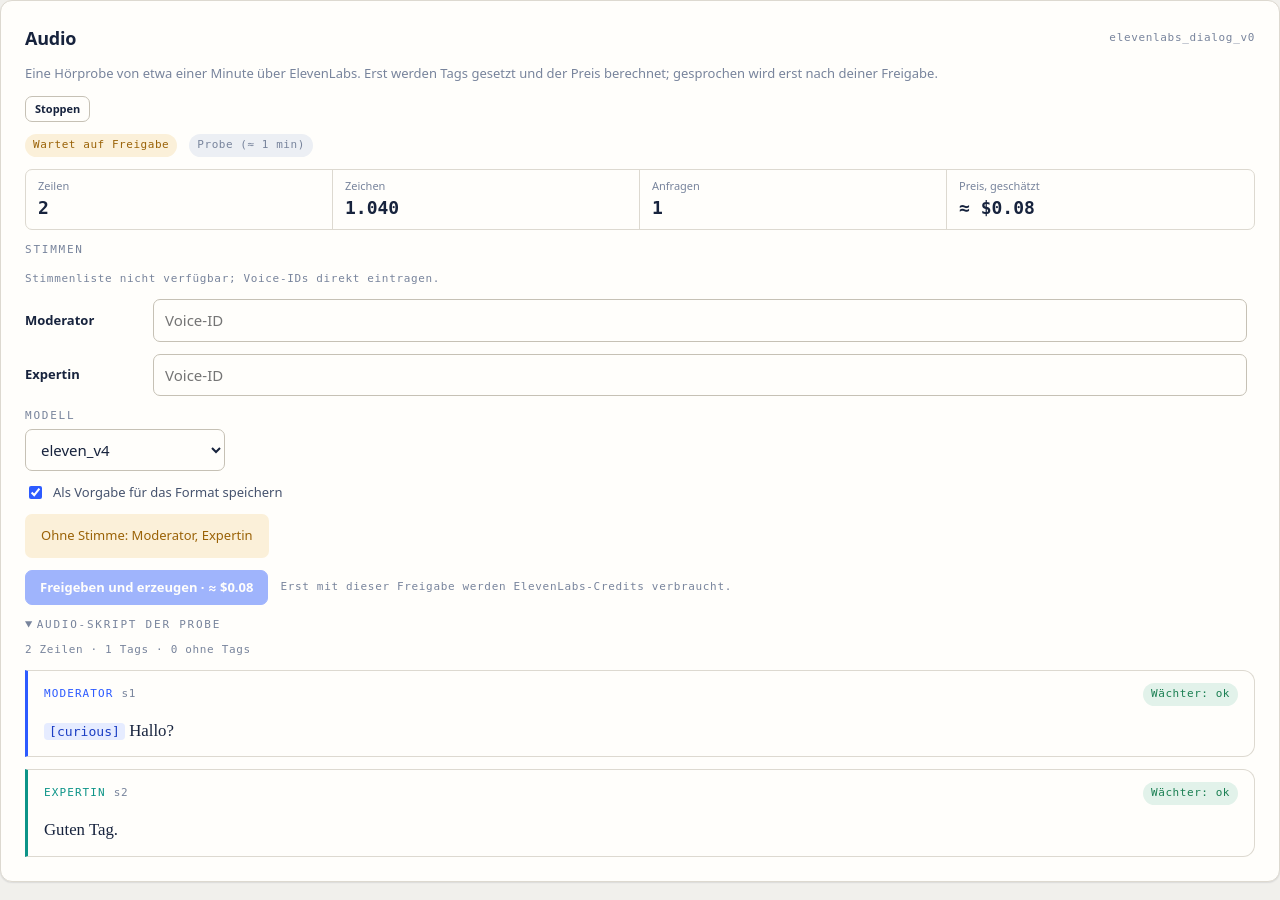
Test: AudioPanel › asks in the page before stopping a take that is waiting for approval
The width and height of the screenshot is (1280, 900).
Click the button "Stoppen". click: (58, 109)
box: [25,96,90,122]
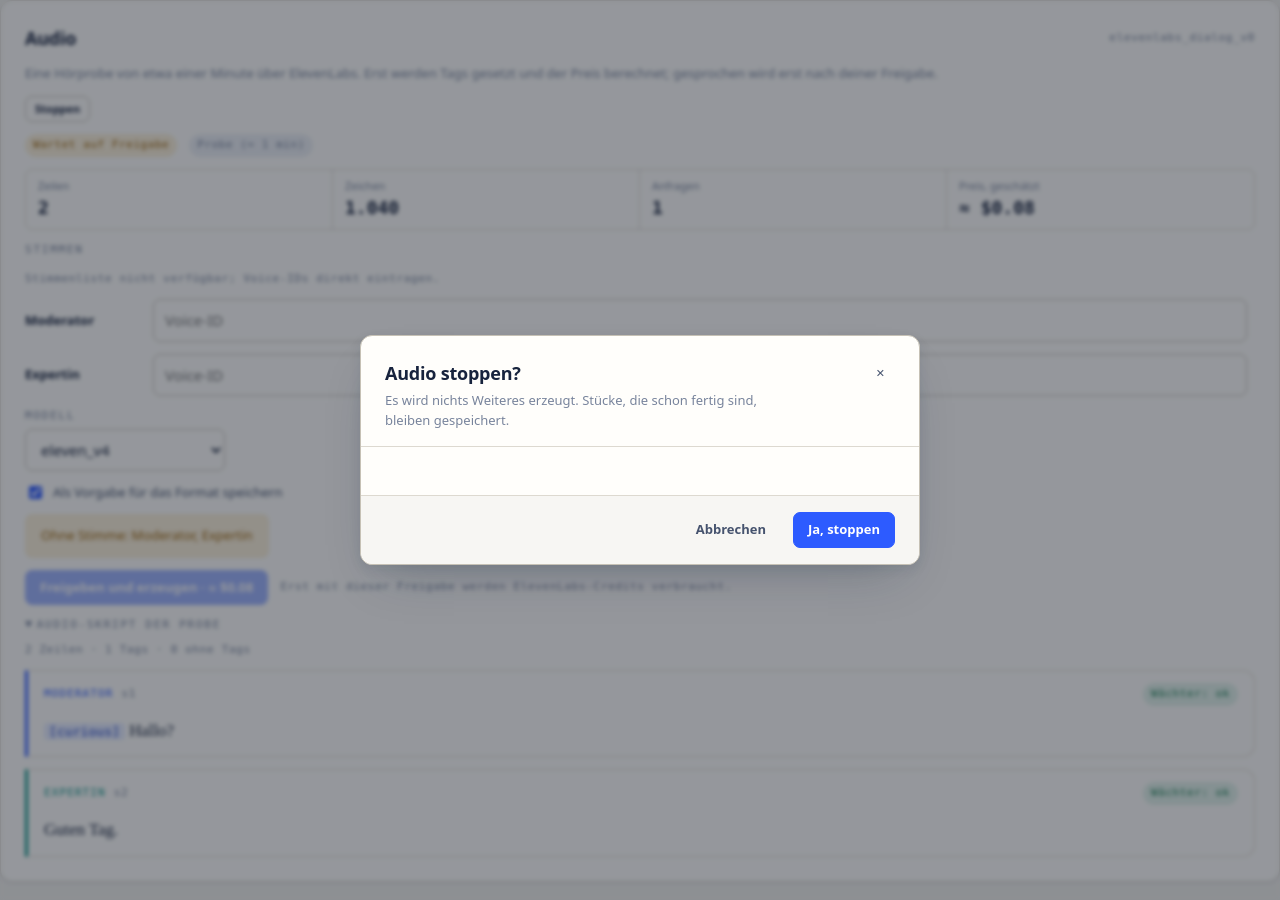
Now the text "Audio stoppen?" is shown, box [385,361,521,385]
Click the button "Ja, stoppen". click: (844, 530)
box: [793,512,895,548]
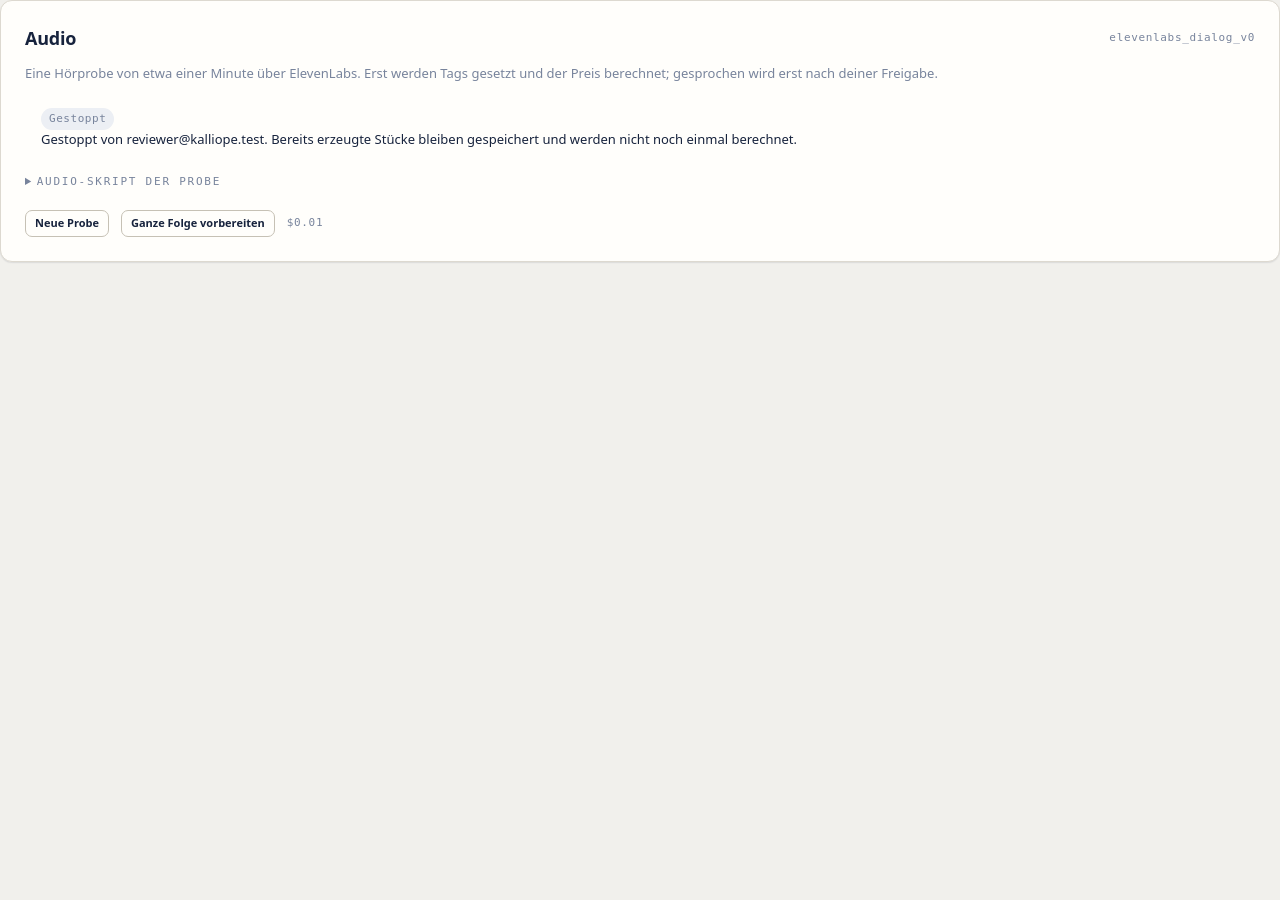
Now the element that starts with "Gestoppt" shows "Gestoppt von reviewer@kalliope.test", box [41,130,797,148]
